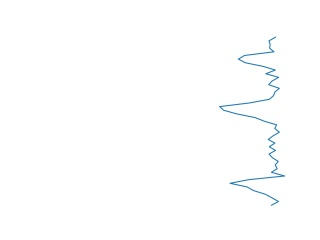underwaterNaturalLevee: (216, 36, 288, 206)
